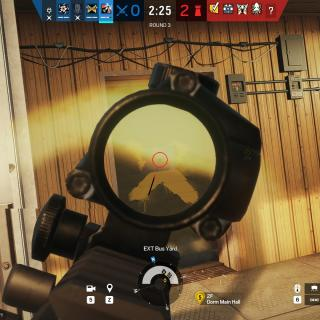Character: (153, 153, 170, 172)
